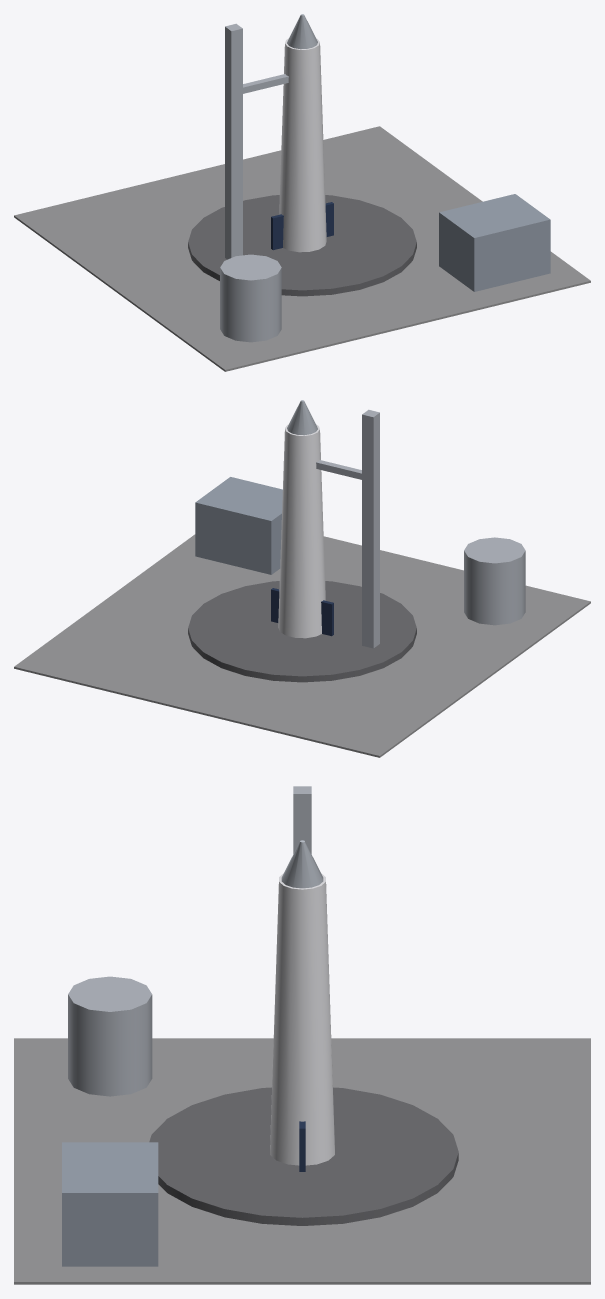
File: spaceport.glb
3 renders of one model, top to bottom at view 1: azimuth 30°, elevation 25°; view 2: azimuth 150°, elevation 25°; view 3: azimuth 270°, elevation 25°, orthographic. The views are drawn at different scales.
Parts seen in each view (by area): view 1: Pad (×2), Control, Rocket, Tank, Gantry, Nose, Arm; view 2: Pad (×2), Rocket, Control, Tank, Gantry, Nose, Arm; view 3: Pad (×2), Rocket, Control, Tank, Nose, Gantry.
Part boxes in pixels (bbox=[...]): Pad (×2): bbox=[14, 126, 590, 371]; Control: bbox=[439, 194, 550, 291]; Rocket: bbox=[279, 38, 326, 252]; Tank: bbox=[220, 254, 281, 342]; Gantry: bbox=[225, 23, 242, 259]; Nose: bbox=[287, 14, 317, 49]; Arm: bbox=[243, 74, 288, 93]; Pad (×2): bbox=[14, 534, 590, 757]; Rocket: bbox=[278, 424, 325, 638]; Control: bbox=[195, 477, 282, 574]; Tank: bbox=[464, 537, 525, 625]; Gantry: bbox=[362, 409, 379, 648]; Nose: bbox=[287, 400, 317, 435]; Arm: bbox=[316, 460, 361, 479]; Pad (×2): bbox=[14, 1038, 590, 1284]; Rocket: bbox=[270, 873, 334, 1165]; Control: bbox=[62, 1142, 158, 1266]; Tank: bbox=[68, 976, 152, 1096]; Nose: bbox=[281, 840, 323, 888]; Gantry: bbox=[293, 786, 311, 853].
Bounding box in the file's own units: 4.8 × 3 × 4.8.
